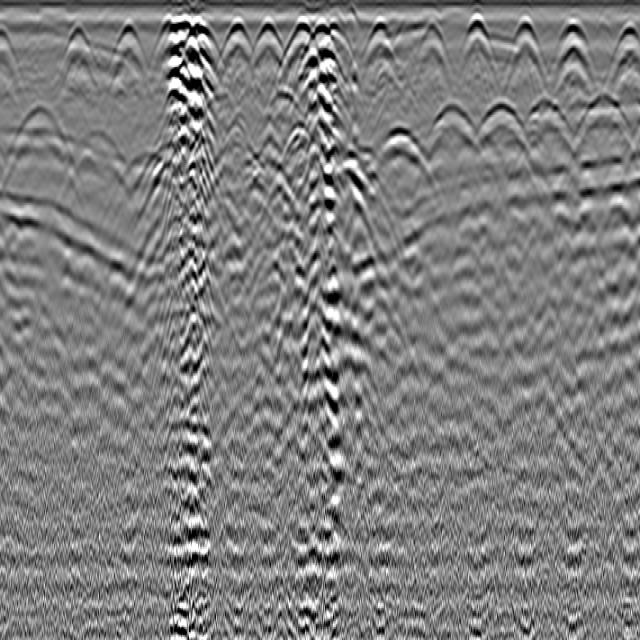hyperbola: (6, 106, 76, 195), (77, 119, 125, 202), (575, 86, 629, 153), (217, 17, 256, 108), (458, 0, 500, 84), (478, 98, 524, 167), (427, 99, 481, 157), (363, 16, 401, 95), (528, 92, 575, 152), (378, 125, 422, 189), (606, 8, 640, 88), (511, 15, 547, 86), (414, 24, 452, 91), (62, 21, 96, 94), (112, 18, 145, 90), (557, 18, 591, 83), (0, 21, 24, 104), (251, 17, 284, 72), (220, 16, 253, 69), (147, 15, 171, 78), (511, 12, 541, 57), (222, 100, 250, 144), (284, 117, 310, 164), (288, 13, 315, 56), (136, 153, 161, 194), (310, 14, 335, 51)
